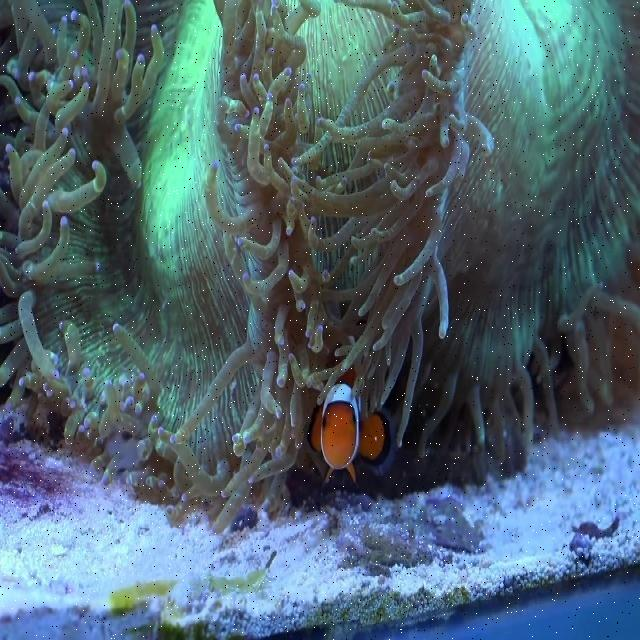fish: (309, 371, 388, 490)
reefs: (0, 0, 638, 533)
